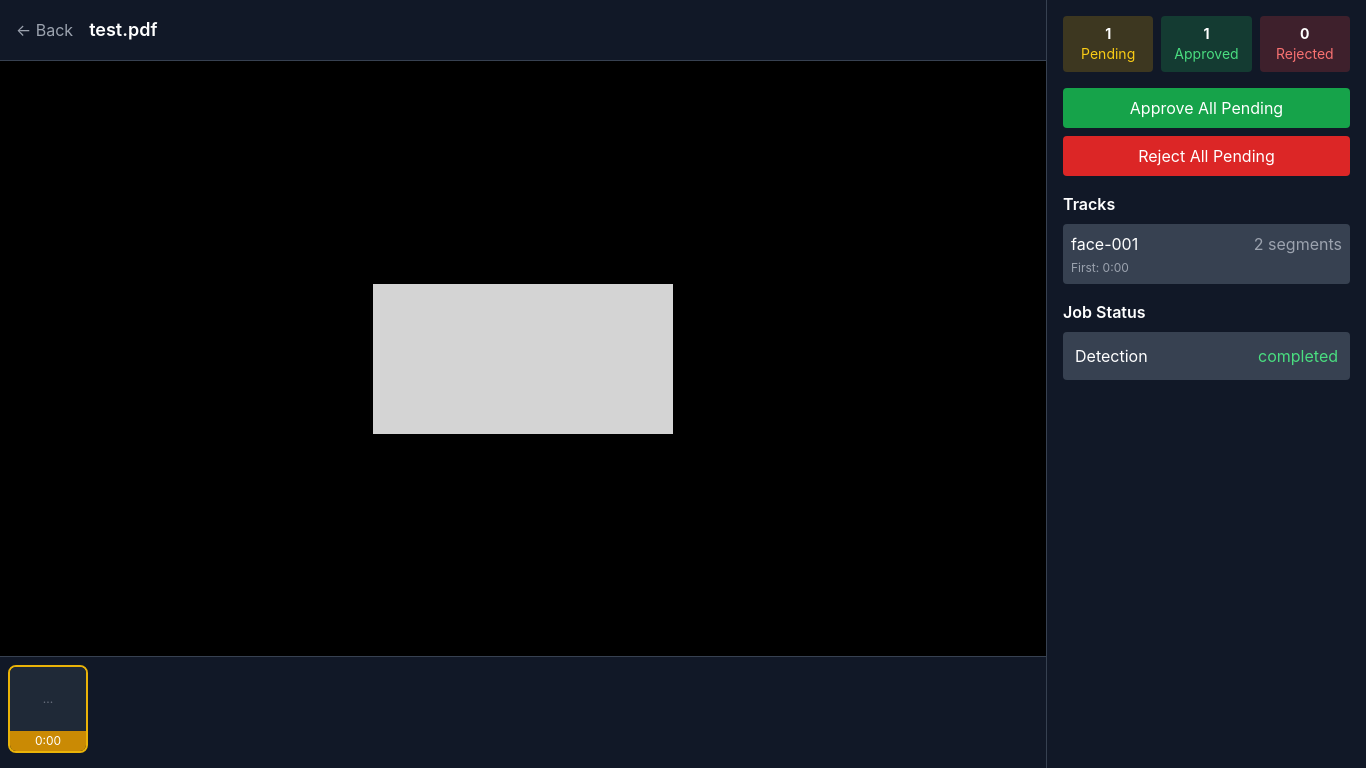
VideoReviewPage › Bulk Actions › should open reject modal when Reject All Pending is clicked
Click the button "Reject All Pending" at point(1206, 156), box [1063,136,1350,176]
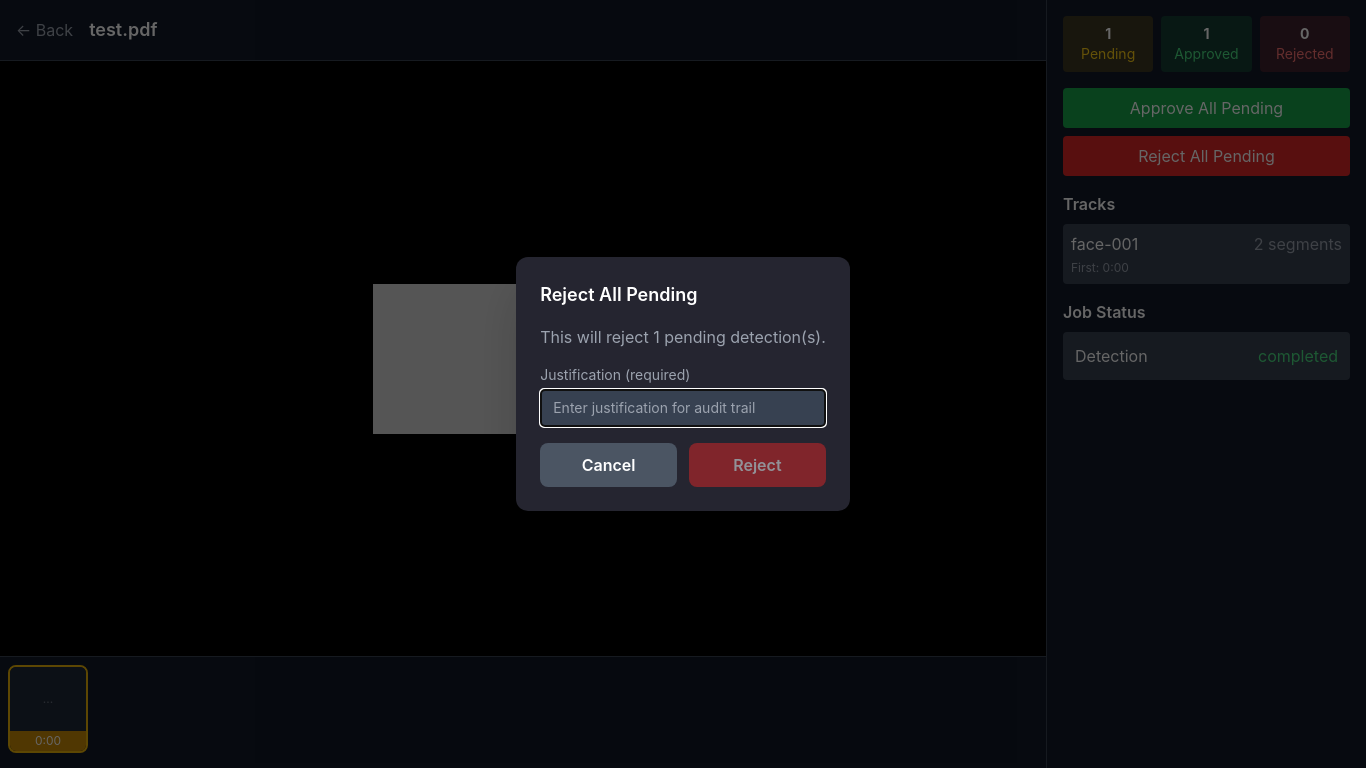
Check: the text "Justification (required)" is shown, box [540,366,690,383]
Check: the button "Reject" is shown, box [689,443,826,487]
